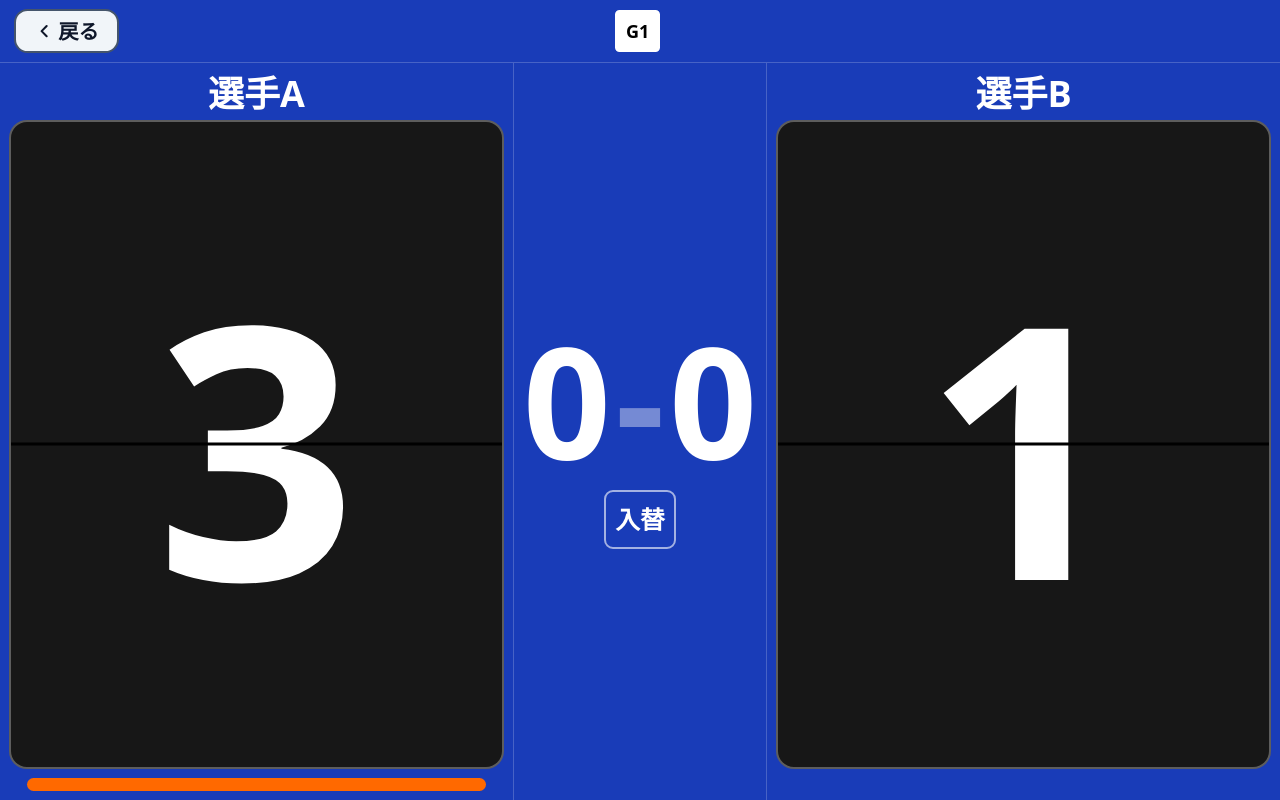
it: ScoreboardScreen › 入替ボタンで左右スコアが反転表示される
Expected: the text "3" is shown, [156,268,357,620]
Expected: the text "1" is shown, [923,268,1124,620]
Click the button with aria-label "左右を入れ替える". click: click(640, 520)
box: [604,490,676,549]
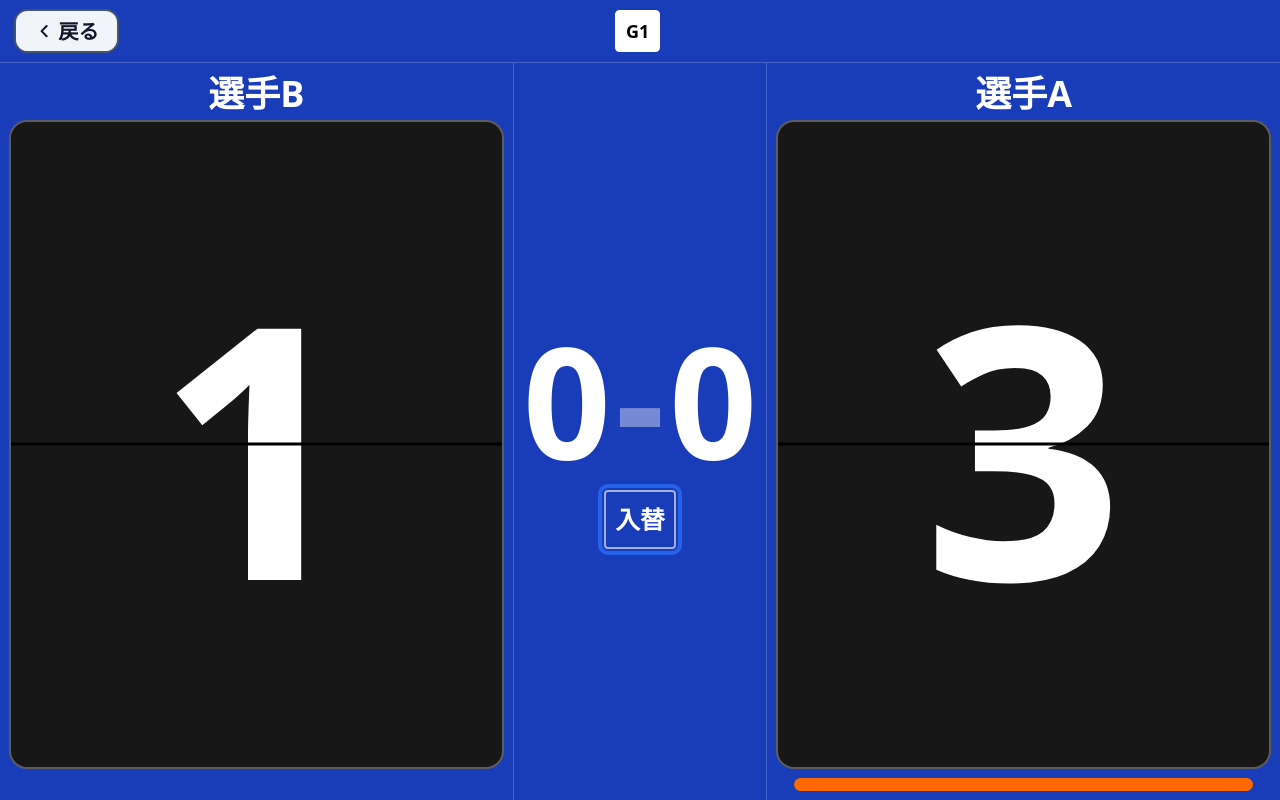
Expected: the text "3" is shown, [923,268,1124,620]
Expected: the text "1" is shown, [156,268,357,620]
